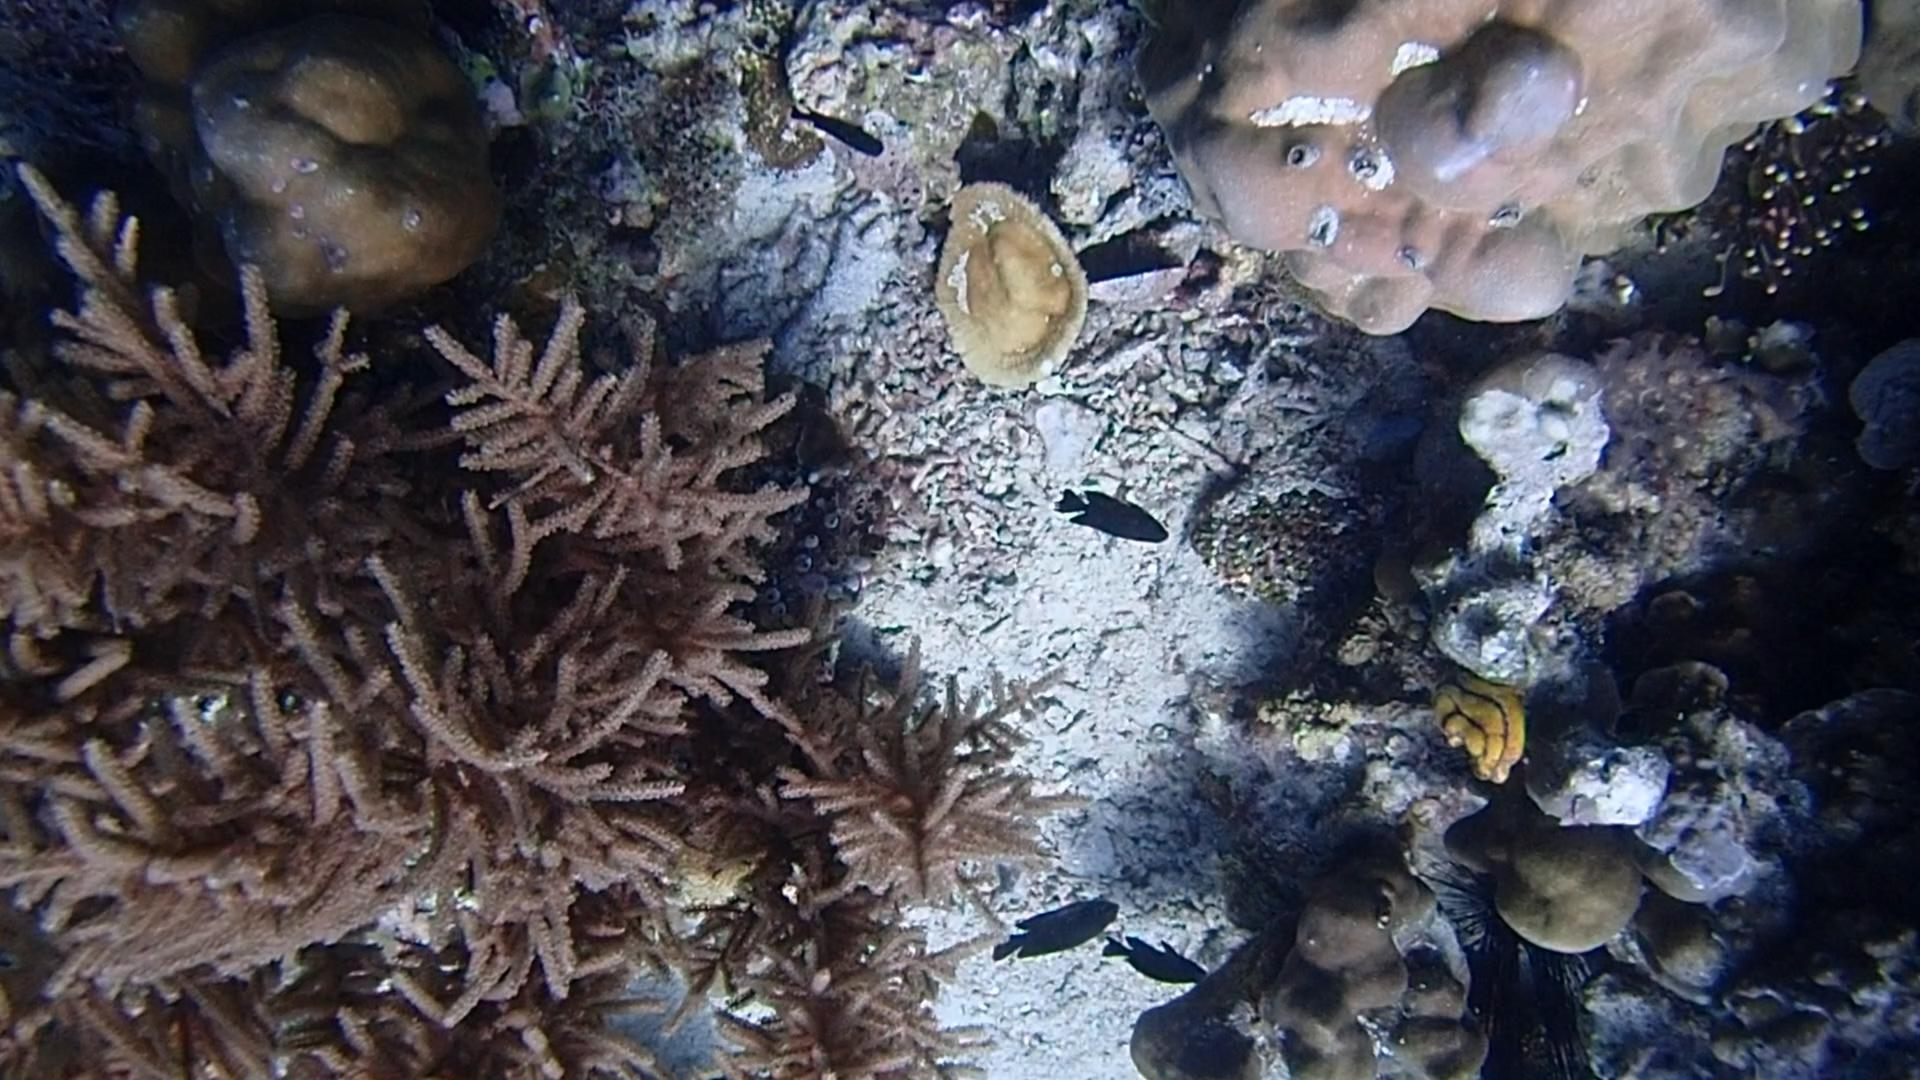Dark Fish: (980, 873, 1125, 984), (1095, 915, 1222, 1005), (1043, 476, 1180, 558), (781, 98, 903, 174)
